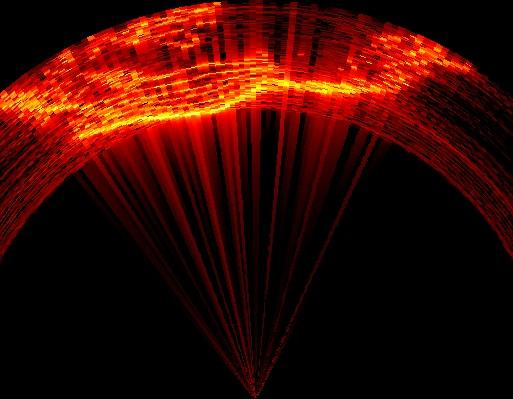shipwreck: (2, 4, 469, 137)
